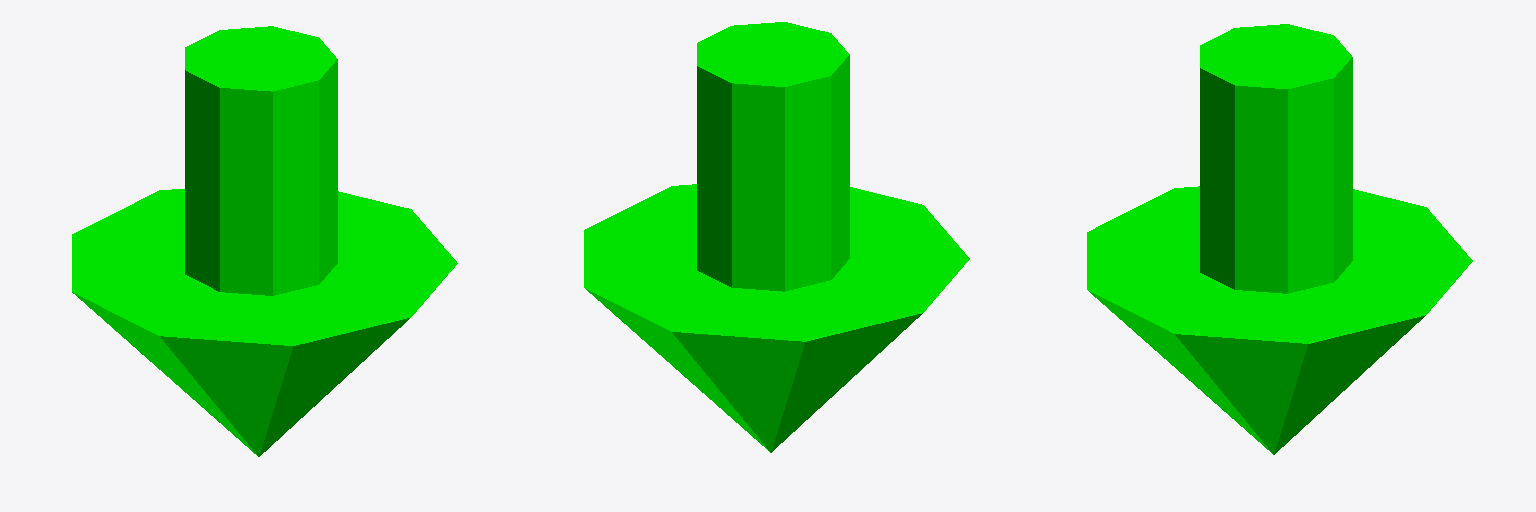
3 renders of one model, left to right at view 1: azimuth 30°, elevation 25°; view 2: azimuth 150°, elevation 25°; view 3: azimuth 270°, elevation 25°, orthographic.
Parts seen in each view (by area): view 1: Cube; view 2: Cube; view 3: Cube.
Boxes of the visible parts, <box> form: Cube: <box>72,26,457,456</box>; Cube: <box>584,22,969,452</box>; Cube: <box>1087,24,1472,454</box>.
Size of the model in its own units: 0.8198 by 0.9194 by 0.8074.
Materials: 1 (1 with a texture image).